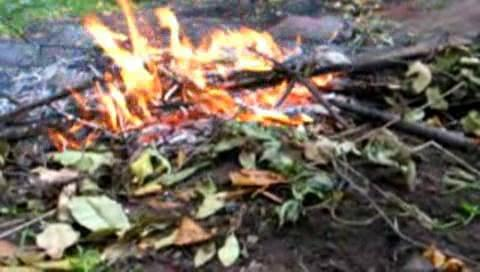fire: (63, 0, 317, 141)
